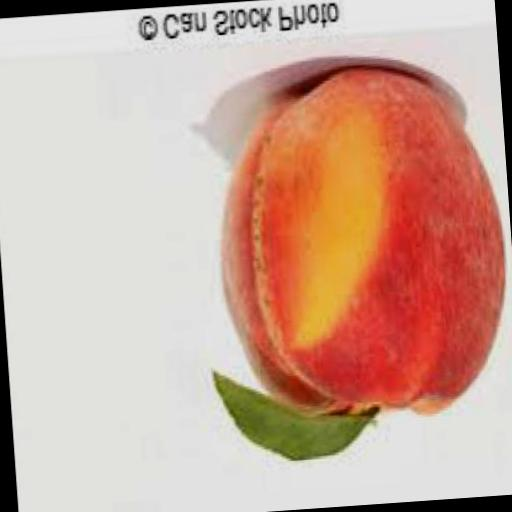biodegradable: (207, 60, 512, 431), (208, 363, 382, 470)
